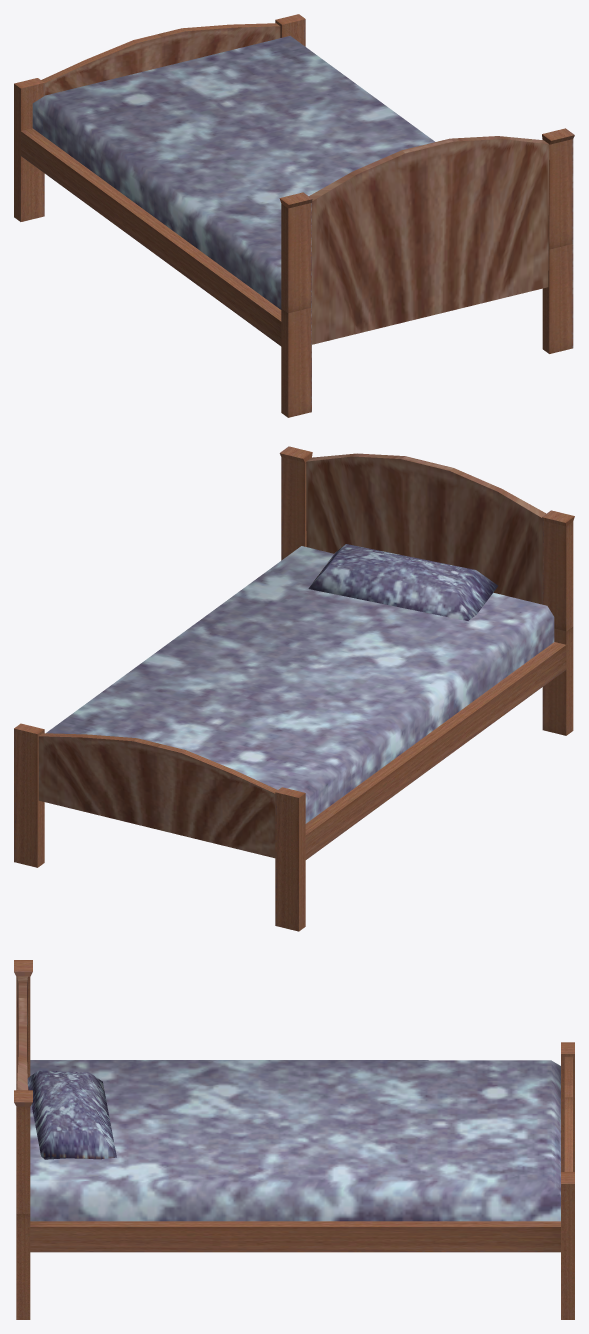
The model's file is singlewoodbed3.fbx.
3 views of the same model, one above another, from view 1: azimuth 30°, elevation 25°; view 2: azimuth 150°, elevation 25°; view 3: azimuth 270°, elevation 25° (orthographic).
Parts seen in each view (by area): view 1: mesh_0; view 2: mesh_0; view 3: mesh_0.
Boxes of the visible parts, bbox=[...] form: mesh_0: bbox=[14, 14, 574, 417]; mesh_0: bbox=[14, 446, 574, 931]; mesh_0: bbox=[14, 960, 574, 1319].
Size of the model in its own units: 121 by 94.51 by 201.
1 material, 1 textured.
